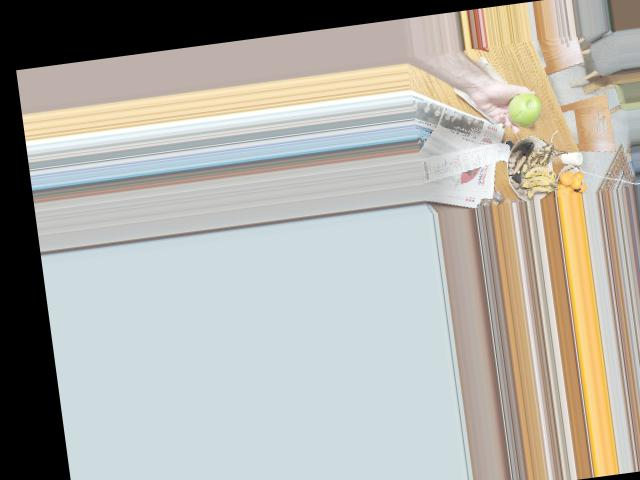apple: (505, 90, 542, 128)
